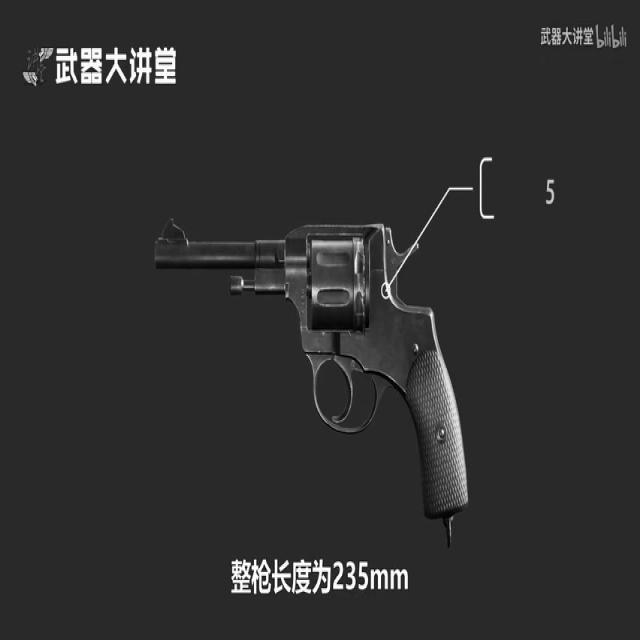Hand-Gun: (143, 218, 517, 510)
